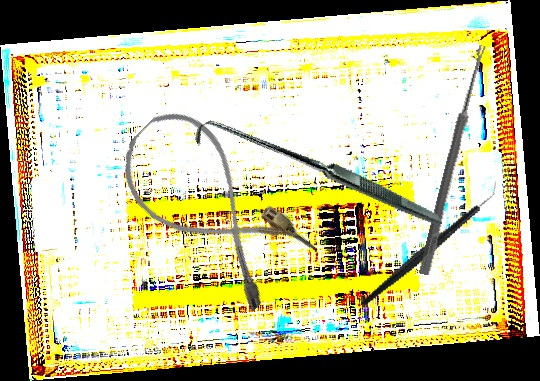Cannula: (102, 95, 322, 318)
Chopper: (336, 178, 522, 310)
Hook Surgical: (190, 47, 443, 307)
Surgical Spoon: (418, 44, 488, 276)
